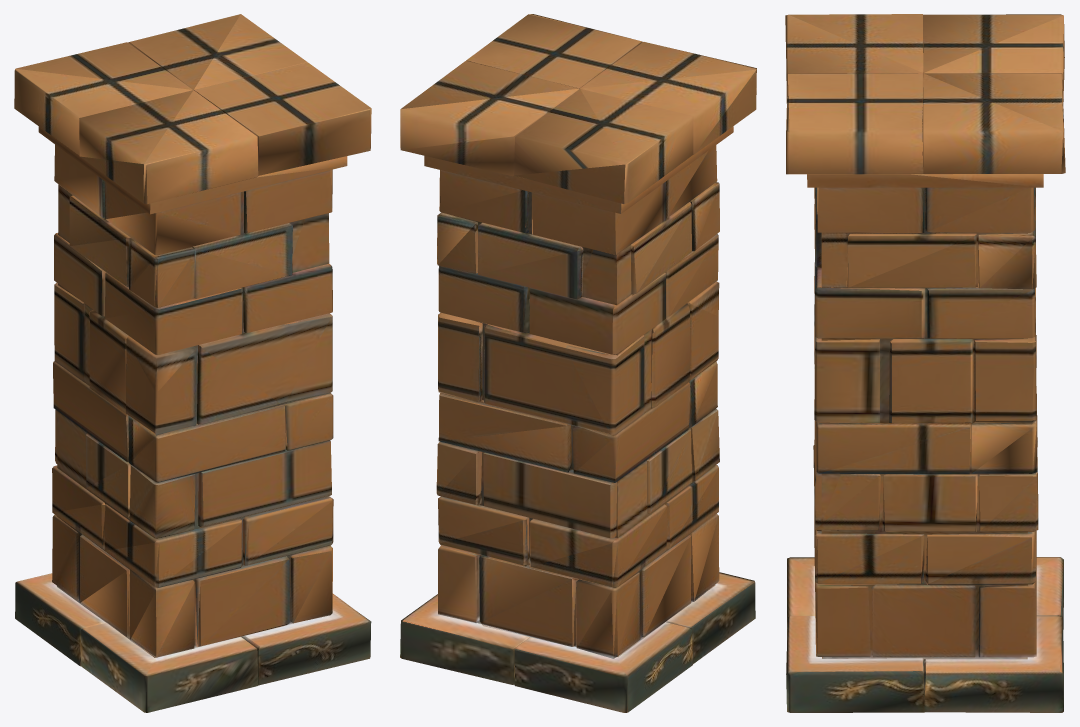
The model's file is chimney.glb.
3 renders of one model, left to right at view 1: azimuth 30°, elevation 25°; view 2: azimuth 150°, elevation 25°; view 3: azimuth 270°, elevation 25°, orthographic. The views are drawn at different scales.
Bounding box in the file's own units: 0.7 × 1.6 × 0.7.
1 material, 1 textured.
